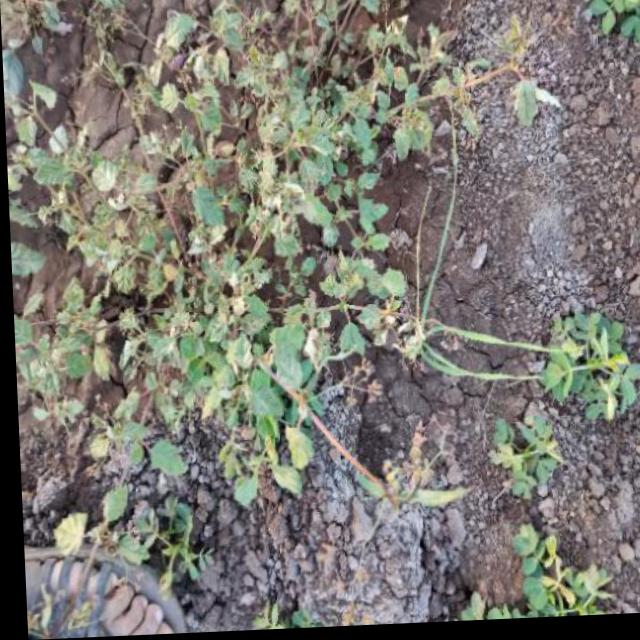weed: (22, 33, 528, 493)
